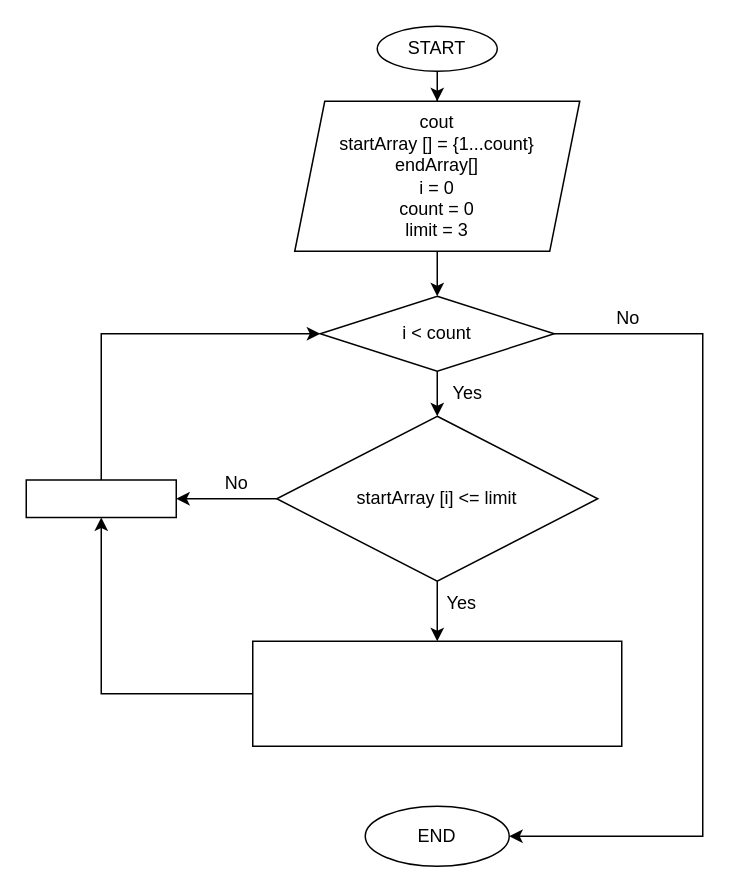
This 741x893 diagram has some shape labels left out. The shapes that lost their labels are listed below. From the top down, each one's centre as x and y in pixels, then its label:
At pixel 100 498: "i++".
At pixel 436 693: "endArray [index] = startArary [i] index++".
